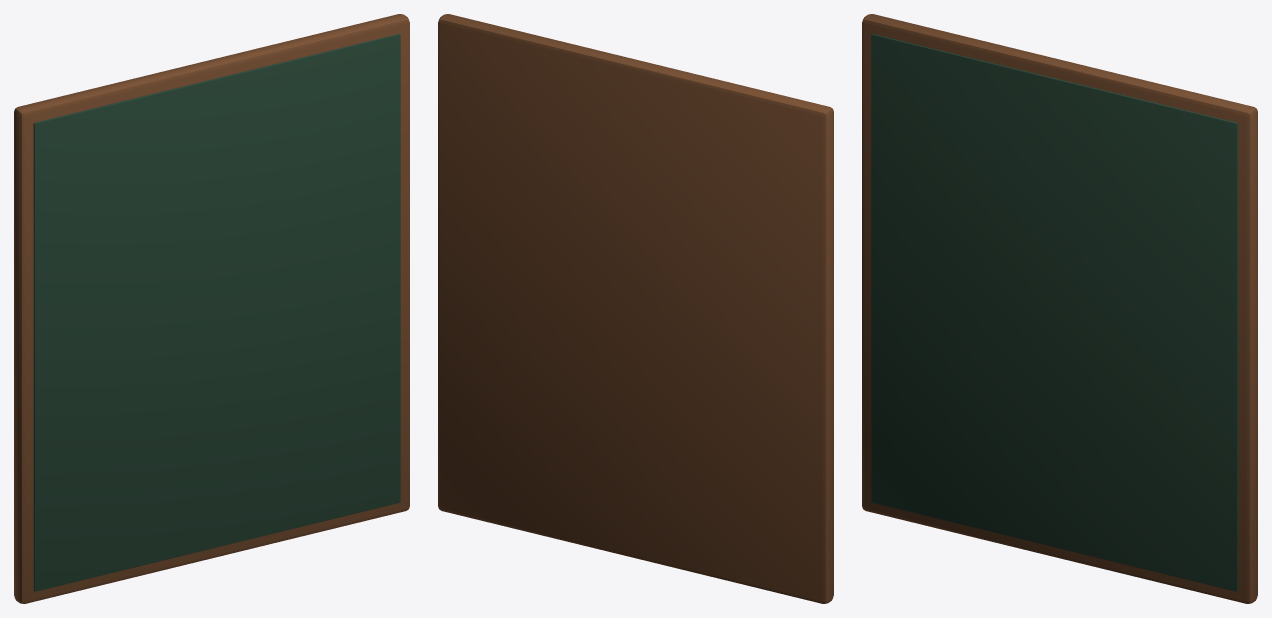
Rendered from lousa_cardapio.glb.
The picture shows the model from 3 angles, left to right: view 1: azimuth 30°, elevation 25°; view 2: azimuth 150°, elevation 25°; view 3: azimuth 330°, elevation 25°; orthographic projection.
Parts seen in each view (by area): view 1: lousa_cardapio_face, Cube; view 2: Cube; view 3: lousa_cardapio_face, Cube.
Part boxes in pixels (x1,y1,x2,y2): lousa_cardapio_face: (33,34,400,591); Cube: (14,14,409,603); Cube: (438,14,833,603); lousa_cardapio_face: (871,34,1238,591); Cube: (862,14,1257,603).
Size of the model in its own units: 0.96 by 1.16 by 0.045.
